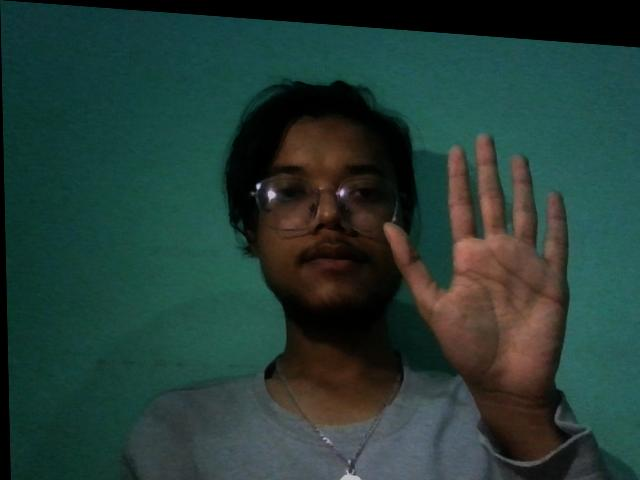hello: (375, 112, 595, 442)
